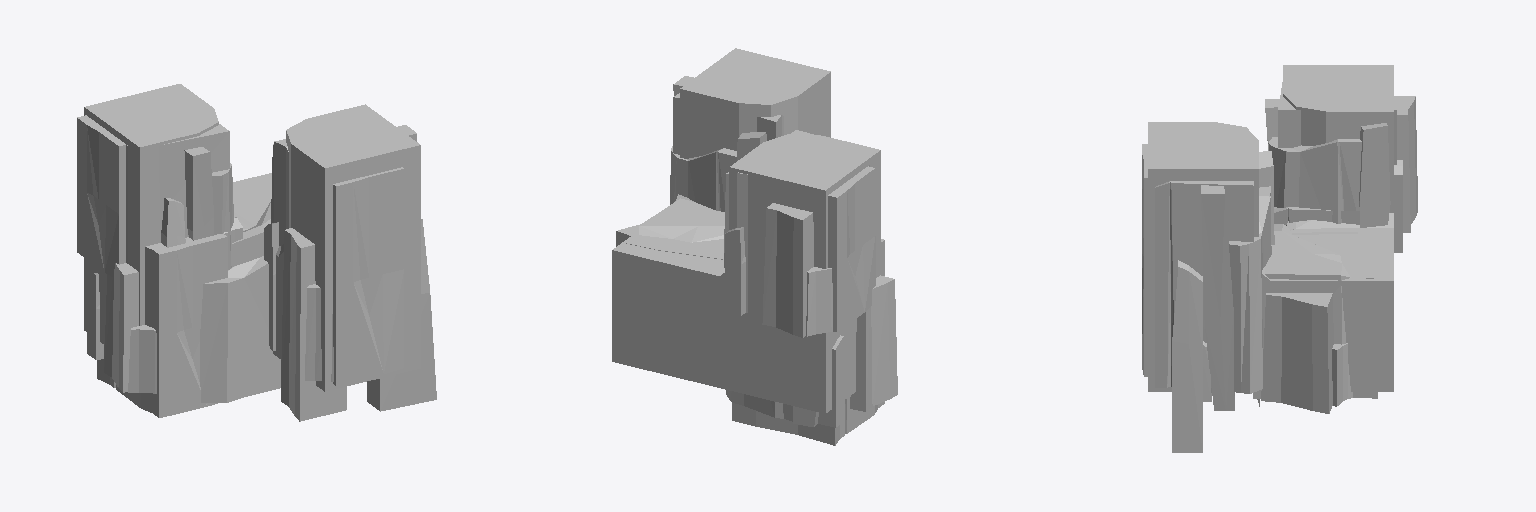
Rendered from cliff_1110_1010.obj.
3 renders of one model, left to right at view 1: azimuth 30°, elevation 25°; view 2: azimuth 150°, elevation 25°; view 3: azimuth 270°, elevation 25°, orthographic.
Parts seen in each view (by area): view 1: tile_1110_1010; view 2: tile_1110_1010; view 3: tile_1110_1010.
Part boxes in pixels (x1,y1,x2,y2): tile_1110_1010: (77, 84, 436, 421); tile_1110_1010: (612, 48, 897, 445); tile_1110_1010: (1142, 65, 1417, 452).
Size of the model in its own units: 2.46 by 2.42 by 2.24.